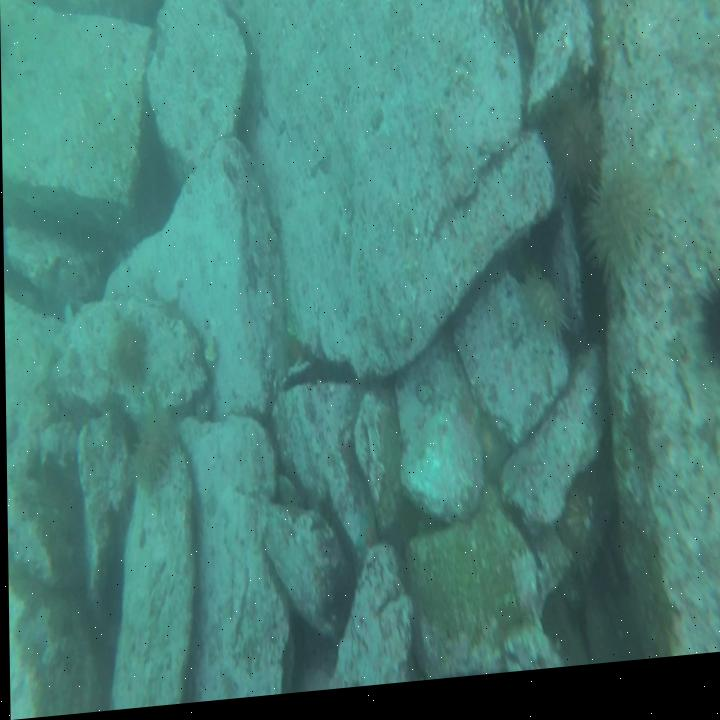echinus: (585, 187, 657, 291), (521, 276, 575, 363), (551, 103, 595, 192), (690, 283, 720, 390), (128, 424, 172, 490), (107, 330, 150, 390)
